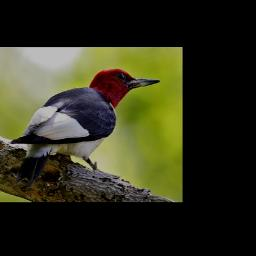Woodpecker: (11, 69, 159, 188)
